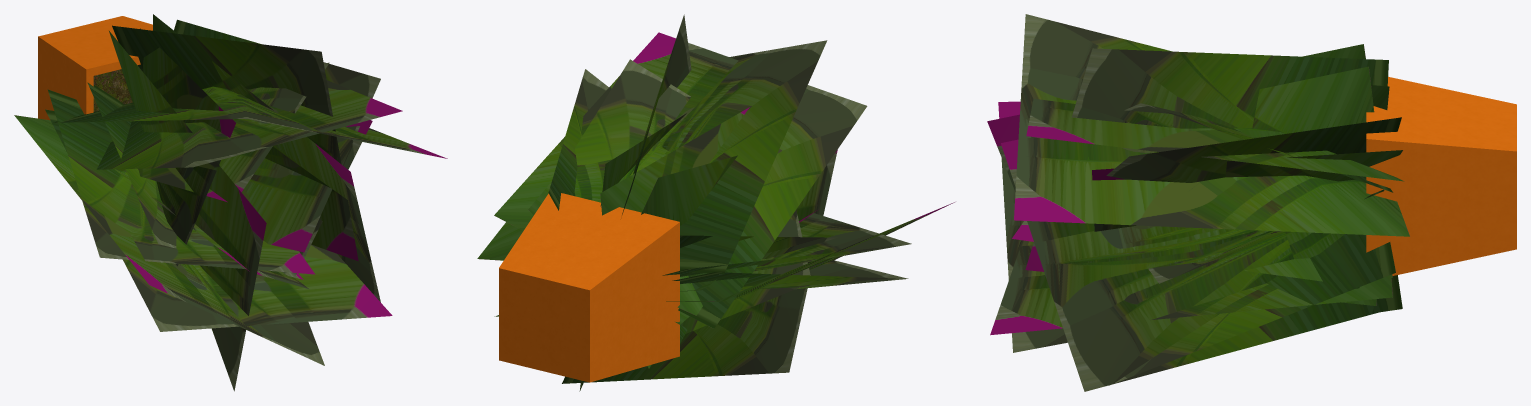
3 renders of one model, left to right at view 1: azimuth 30°, elevation 25°; view 2: azimuth 150°, elevation 25°; view 3: azimuth 270°, elevation 25°, orthographic. The views are drawn at different scales.
Parts seen in each view (by area): view 1: Pot_14_Low_PolyPlant_0; view 2: Pot_14_Low_PolyPlant_0; view 3: Pot_14_Low_PolyPlant_0.
Part boxes in pixels (x1,y1,x2,y2): Pot_14_Low_PolyPlant_0: [14, 14, 447, 391]; Pot_14_Low_PolyPlant_0: [477, 14, 954, 391]; Pot_14_Low_PolyPlant_0: [987, 14, 1516, 391].
Size of the model in its own units: 1.33 by 1.29 by 1.73.
Materials: 1 (1 with a texture image).
